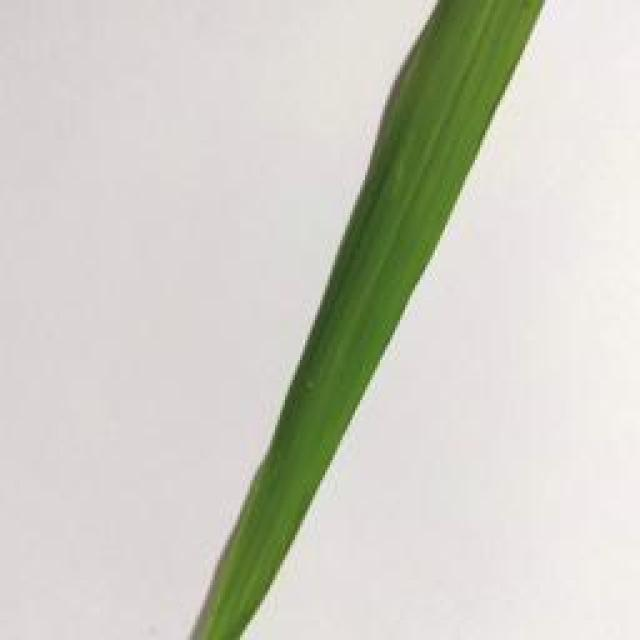Healthy-Plant: (192, 0, 546, 640)
